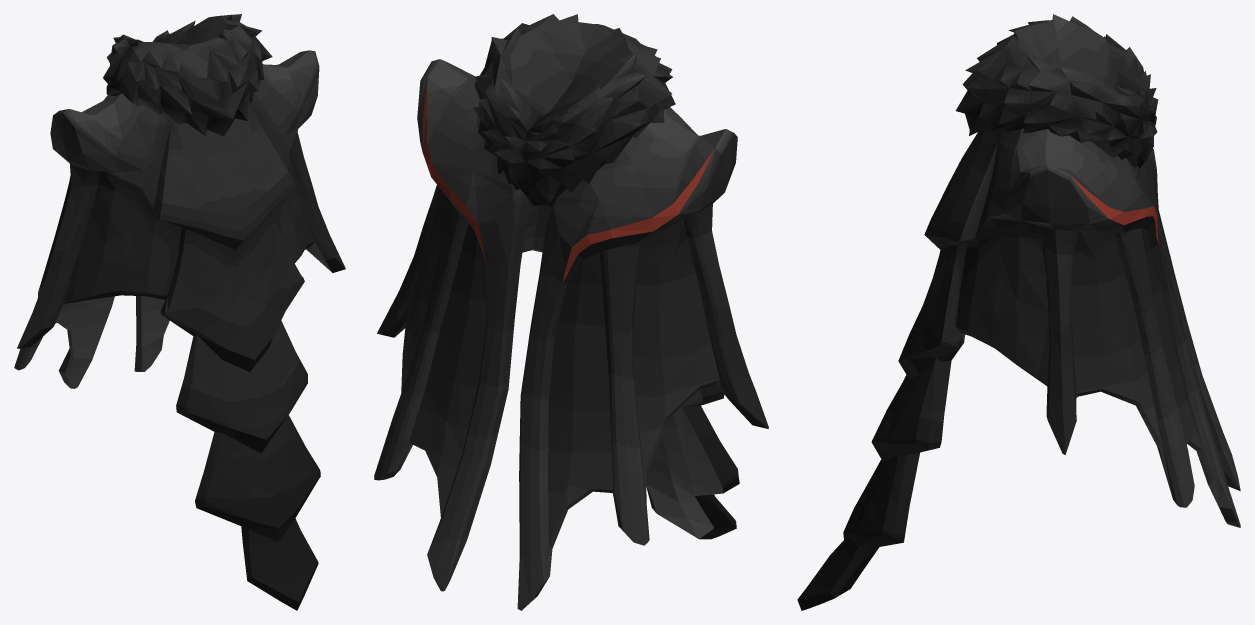
File: CharSkyKid_Wing_AP15Krill_01.glb
3 renders of one model, left to right at view 1: azimuth 30°, elevation 25°; view 2: azimuth 150°, elevation 25°; view 3: azimuth 270°, elevation 25°, orthographic. The views are drawn at different scales.
Visible parts, largest first — view 1: CharSkyKid_Wing_AP15Krill_01; view 2: CharSkyKid_Wing_AP15Krill_01; view 3: CharSkyKid_Wing_AP15Krill_01.
Part boxes in pixels (x1=…): CharSkyKid_Wing_AP15Krill_01: x1=14, y1=14, x2=345, y2=610; CharSkyKid_Wing_AP15Krill_01: x1=374, y1=14, x2=768, y2=610; CharSkyKid_Wing_AP15Krill_01: x1=797, y1=14, x2=1240, y2=610.
Size of the model in its own units: 7.13 by 10.47 by 7.32.
Materials: 1 (1 with a texture image).
